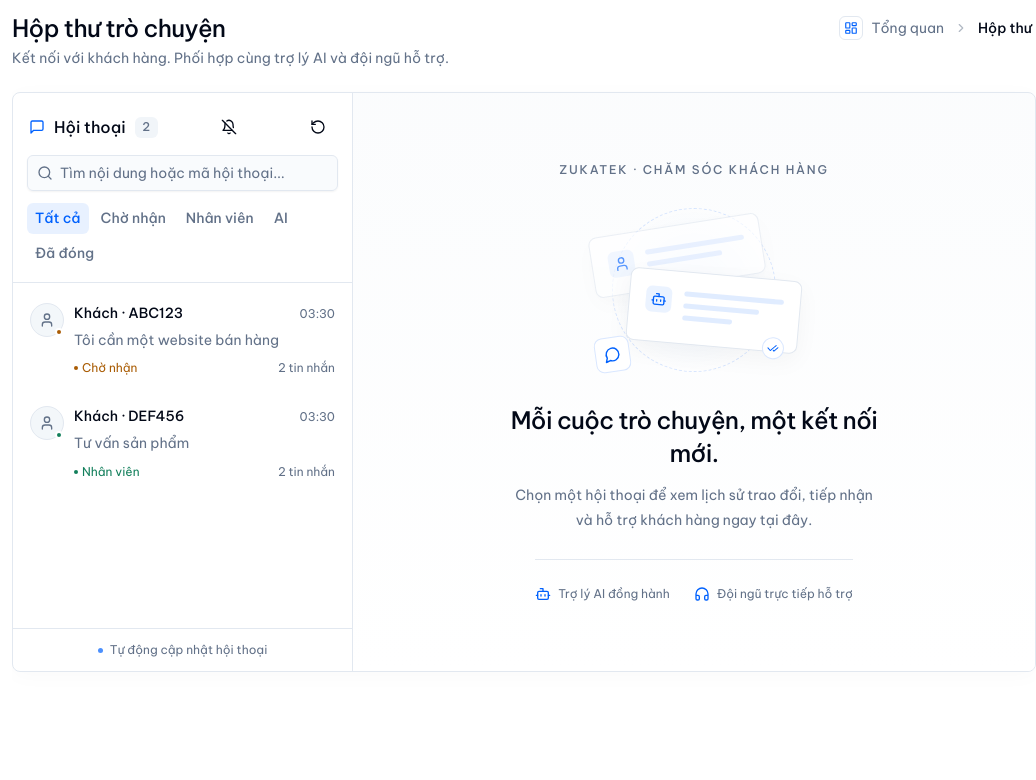
Test: Chat inbox workspace › searches conversations and queries the selected state including closed history
Expected: the number of buttons with test id "chat-inbox-row" is 2, 20,290 -> 345,390; 20,393 -> 345,494
Type "bán hàng" into the field named "Tìm hội thoại" at (182, 173), box 27,155 -> 338,191
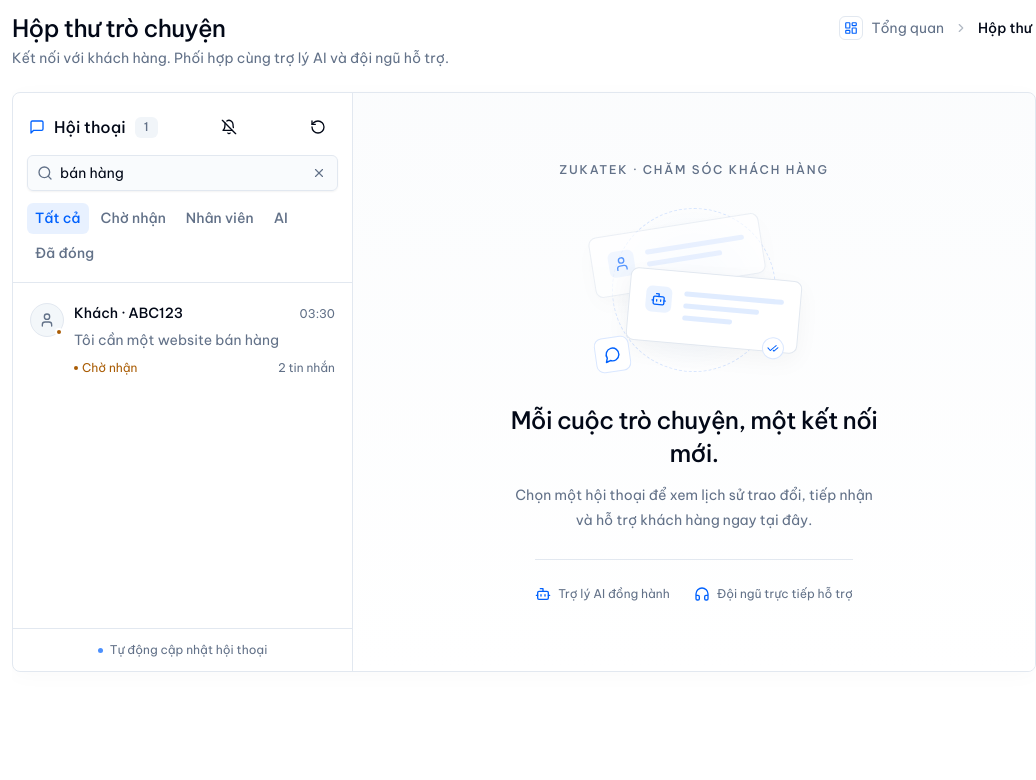
Expected: the number of buttons with test id "chat-inbox-row" is 1, 20,290 -> 345,390
Click the button named "Xóa tìm kiếm" at (319, 173), box 306,160 -> 332,186
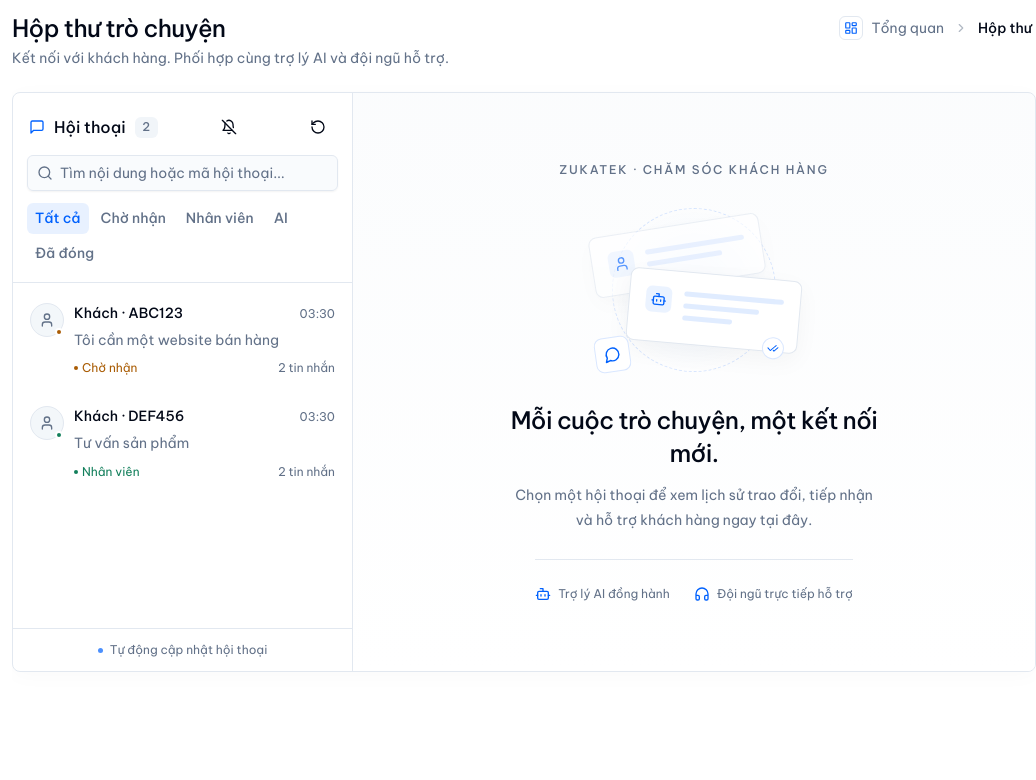
Click the button "Đã đóng" at (65, 254), box 27,238 -> 102,269
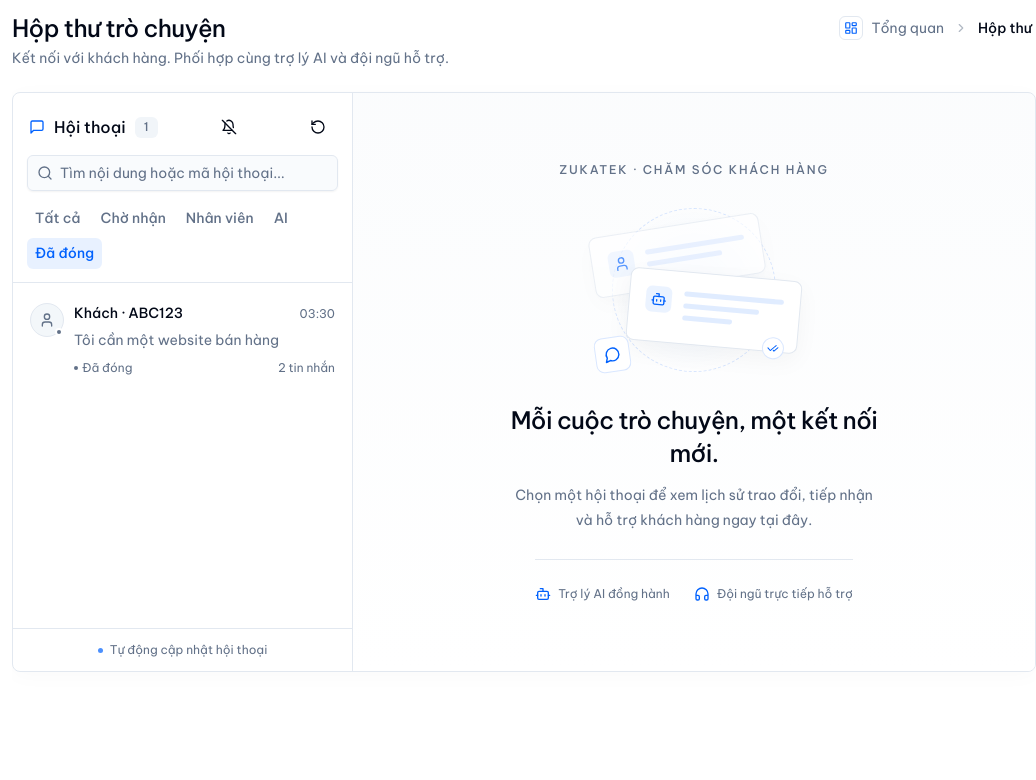
Click the button with test id "chat-inbox-row" at (182, 340), box 20,290 -> 345,390
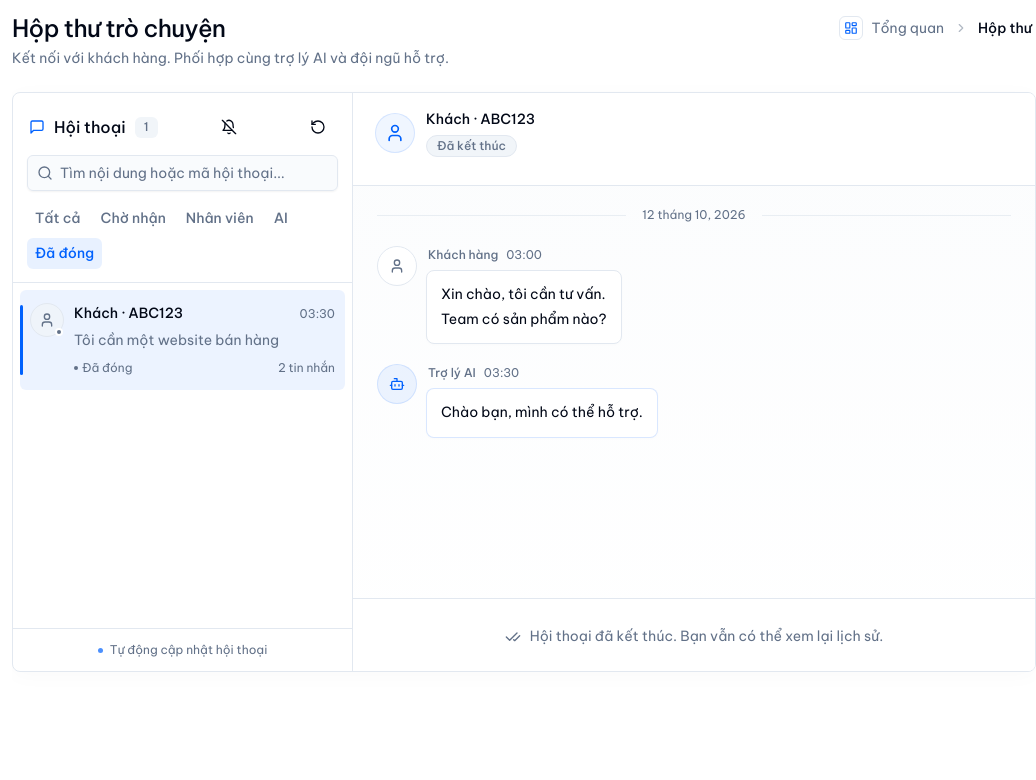
Expected: the text "Hội thoại đã kết thúc. Bạn vẫn có thể xem lại lịch sử." is shown, 505,627 -> 883,645
